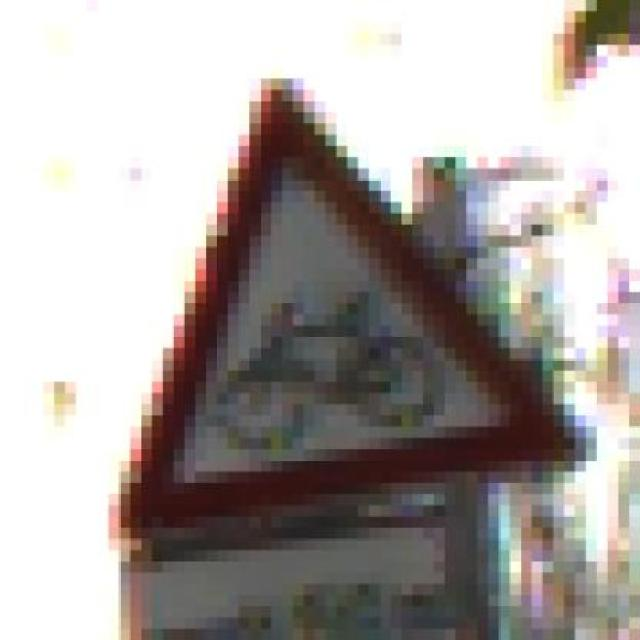CYCLE ROUTE AHEAD WARNING: (97, 56, 597, 539)
